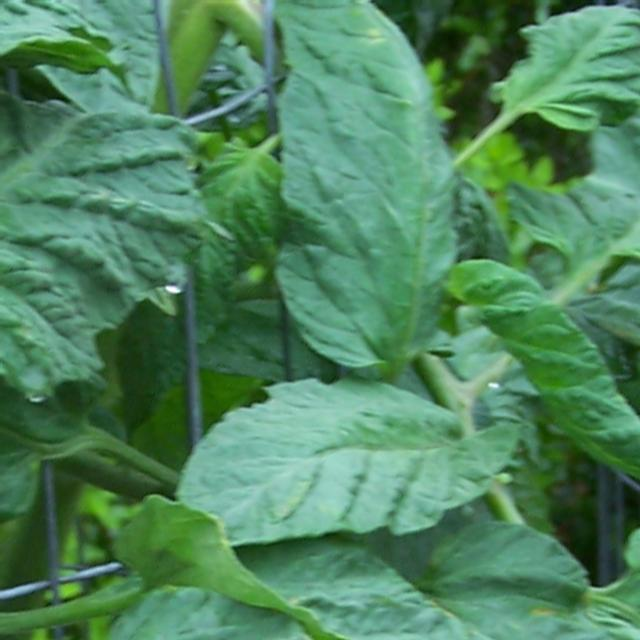Tomato leaf: (236, 0, 452, 416), (136, 400, 513, 573), (0, 127, 186, 366), (333, 562, 640, 640), (482, 0, 640, 131)
